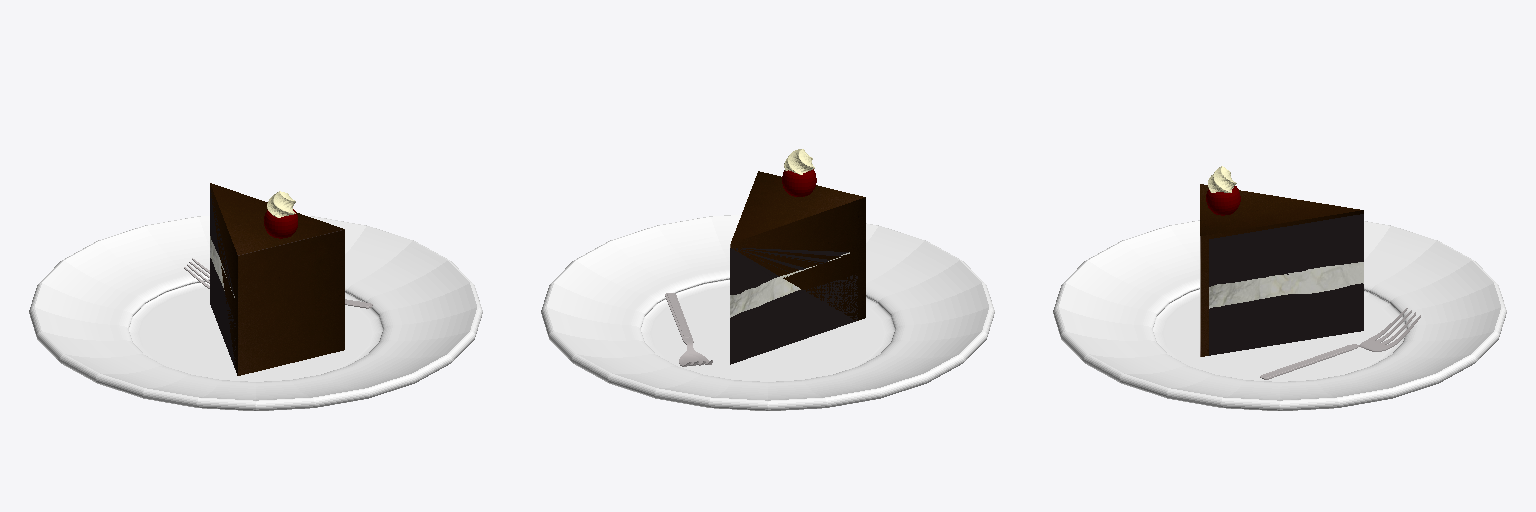
The picture shows the model from 3 angles: view 1: azimuth 30°, elevation 25°; view 2: azimuth 150°, elevation 25°; view 3: azimuth 270°, elevation 25°; orthographic projection.
Visible parts, largest first — view 1: Mesh4 Plates1 Model, Mesh3 Group1 Model, Mesh1 Patch0_1 Cherry1 Group1 Model, Mesh2 Model_1659_1 Group1 Model; view 2: Mesh4 Plates1 Model, Mesh3 Group1 Model, Mesh5 Group2 fork1 Fork1 Model, Mesh1 Patch0_1 Cherry1 Group1 Model, Mesh2 Model_1659_1 Group1 Model; view 3: Mesh4 Plates1 Model, Mesh3 Group1 Model, Mesh5 Group2 fork1 Fork1 Model, Mesh1 Patch0_1 Cherry1 Group1 Model, Mesh2 Model_1659_1 Group1 Model.
Part boxes in pixels (x1,y1,x2,y2): Mesh4 Plates1 Model: (29,216,482,410); Mesh3 Group1 Model: (210,183,344,375); Mesh1 Patch0_1 Cherry1 Group1 Model: (264,209,297,238); Mesh2 Model_1659_1 Group1 Model: (267,191,295,217); Mesh4 Plates1 Model: (541,215,994,410); Mesh3 Group1 Model: (730,171,865,364); Mesh5 Group2 fork1 Fork1 Model: (665,293,712,366); Mesh1 Patch0_1 Cherry1 Group1 Model: (782,169,816,196); Mesh2 Model_1659_1 Group1 Model: (784,149,814,174); Mesh4 Plates1 Model: (1053,220,1506,410); Mesh3 Group1 Model: (1200,184,1363,356); Mesh5 Group2 fork1 Fork1 Model: (1260,308,1420,379); Mesh1 Patch0_1 Cherry1 Group1 Model: (1206,186,1240,215); Mesh2 Model_1659_1 Group1 Model: (1208,166,1236,192).
Bounding box in the file's own units: 0.4388 × 0.1866 × 0.4388.
8 materials, 2 textured.